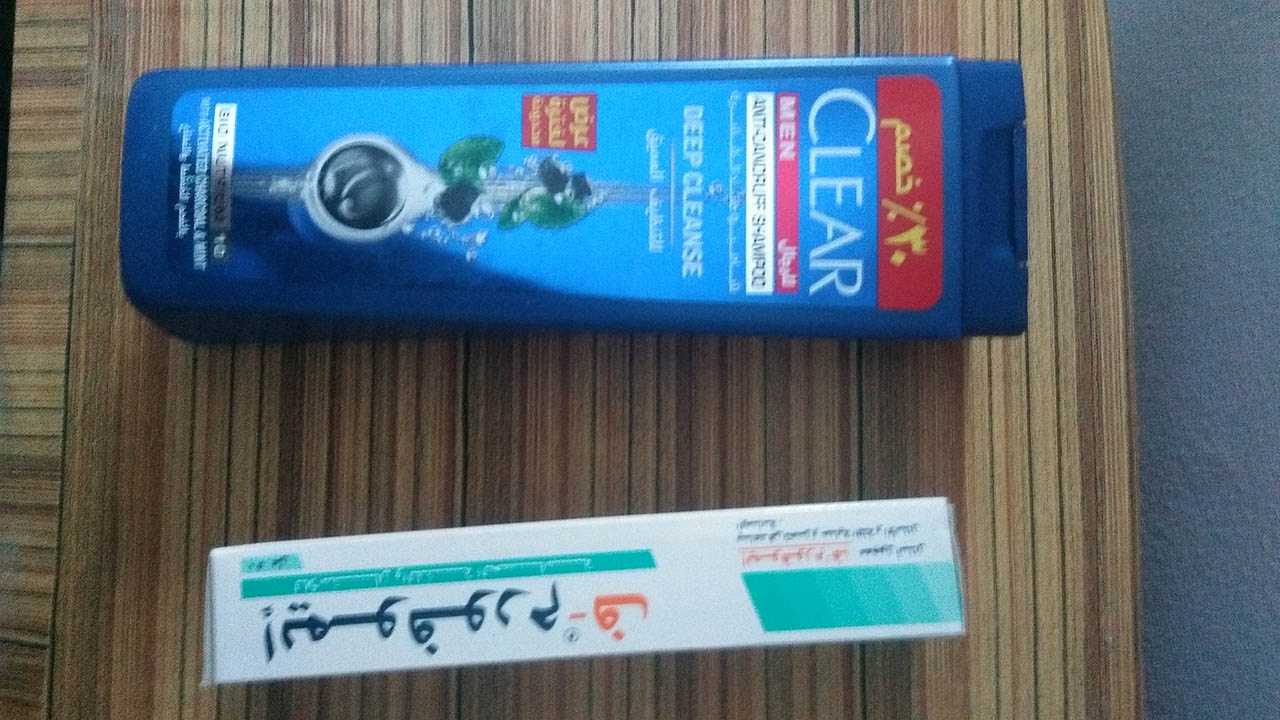Shampoo-Clear 4.7$: (130, 67, 1052, 341)
Toothpaste-F 1.5$: (205, 525, 963, 662)
